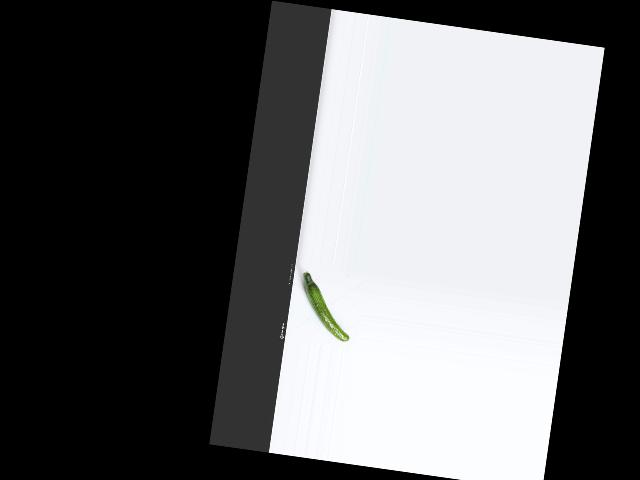cucumber: (294, 270, 357, 341)
